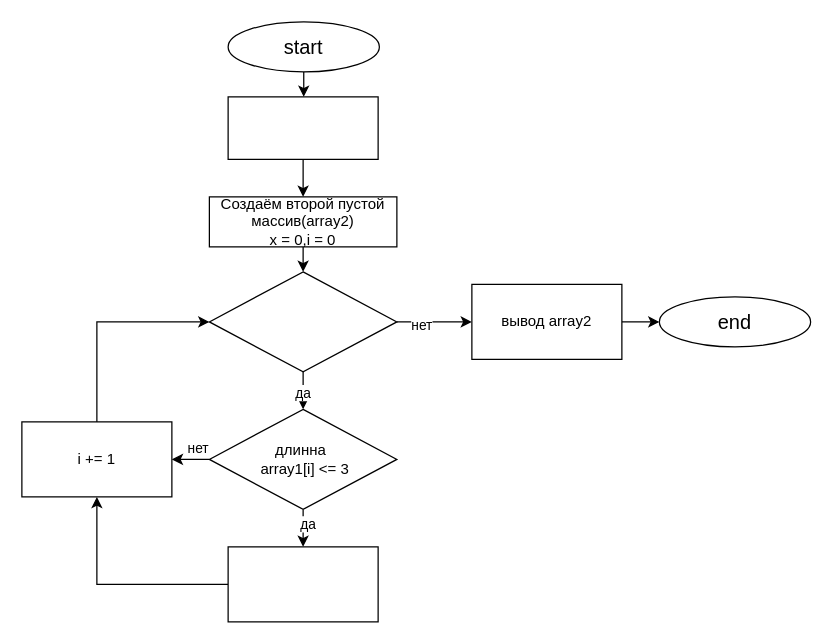
Image size: 833x644. Some labels were removed from this diagram. The shapes that lost their labels are listed below. From the top down, each one's centre as x and y in pixels, then its label:
At [302,127]: "Создает и заполняем первый массив(array1)".
At [302,321]: "i < длинны array1".
At [302,584]: "array2[x] = array[i] x +=1".
